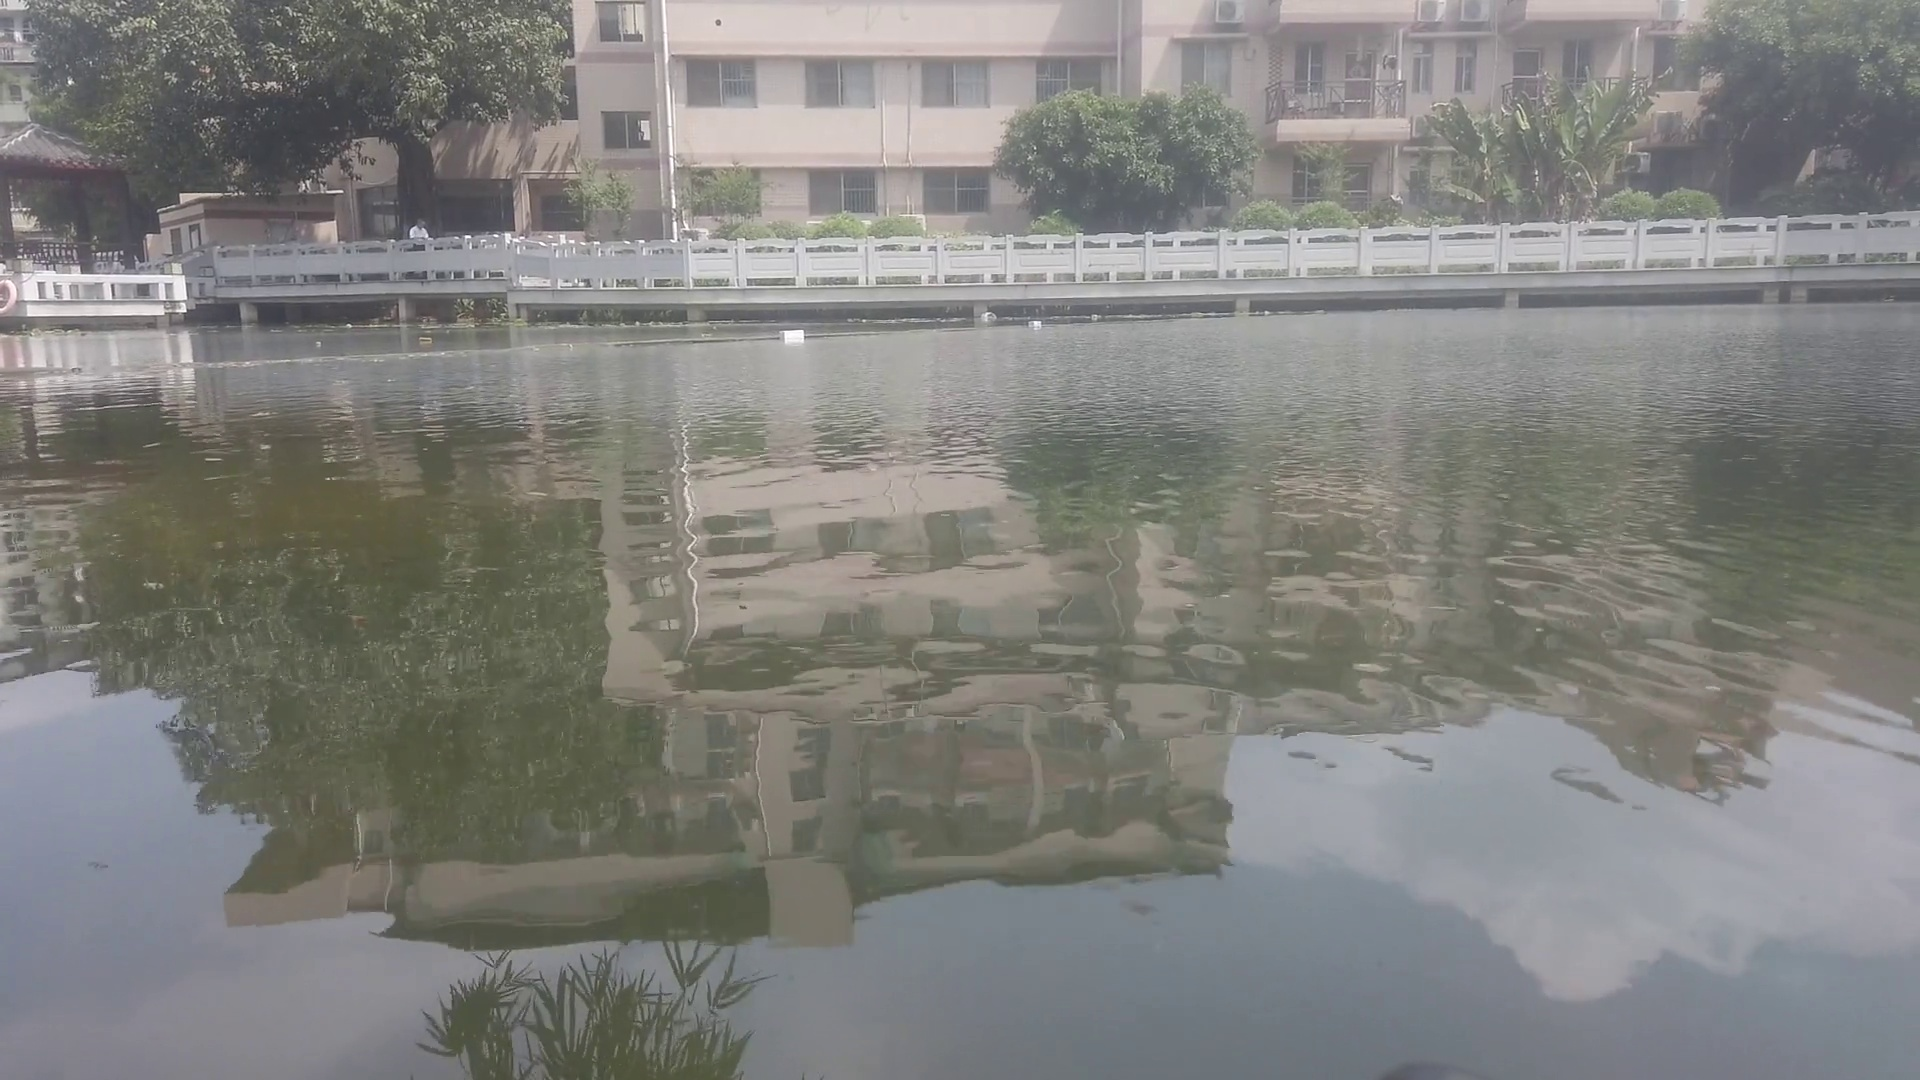carton: (778, 328, 808, 340), (1026, 316, 1046, 326)
